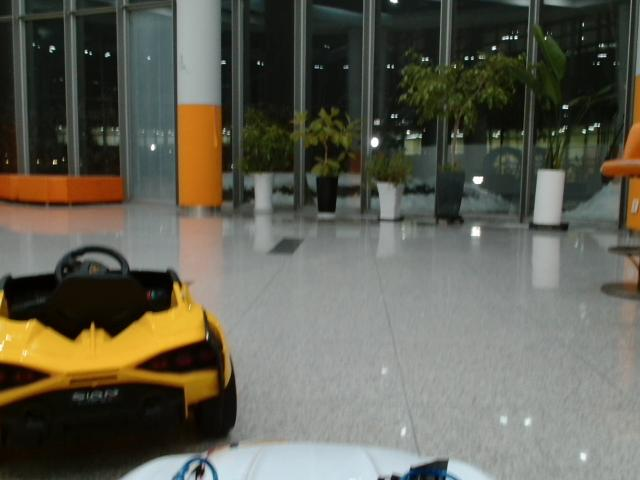car: (1, 246, 236, 462)
